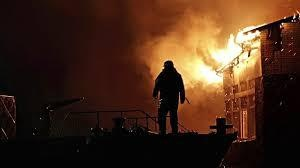fire: (198, 24, 261, 81)
